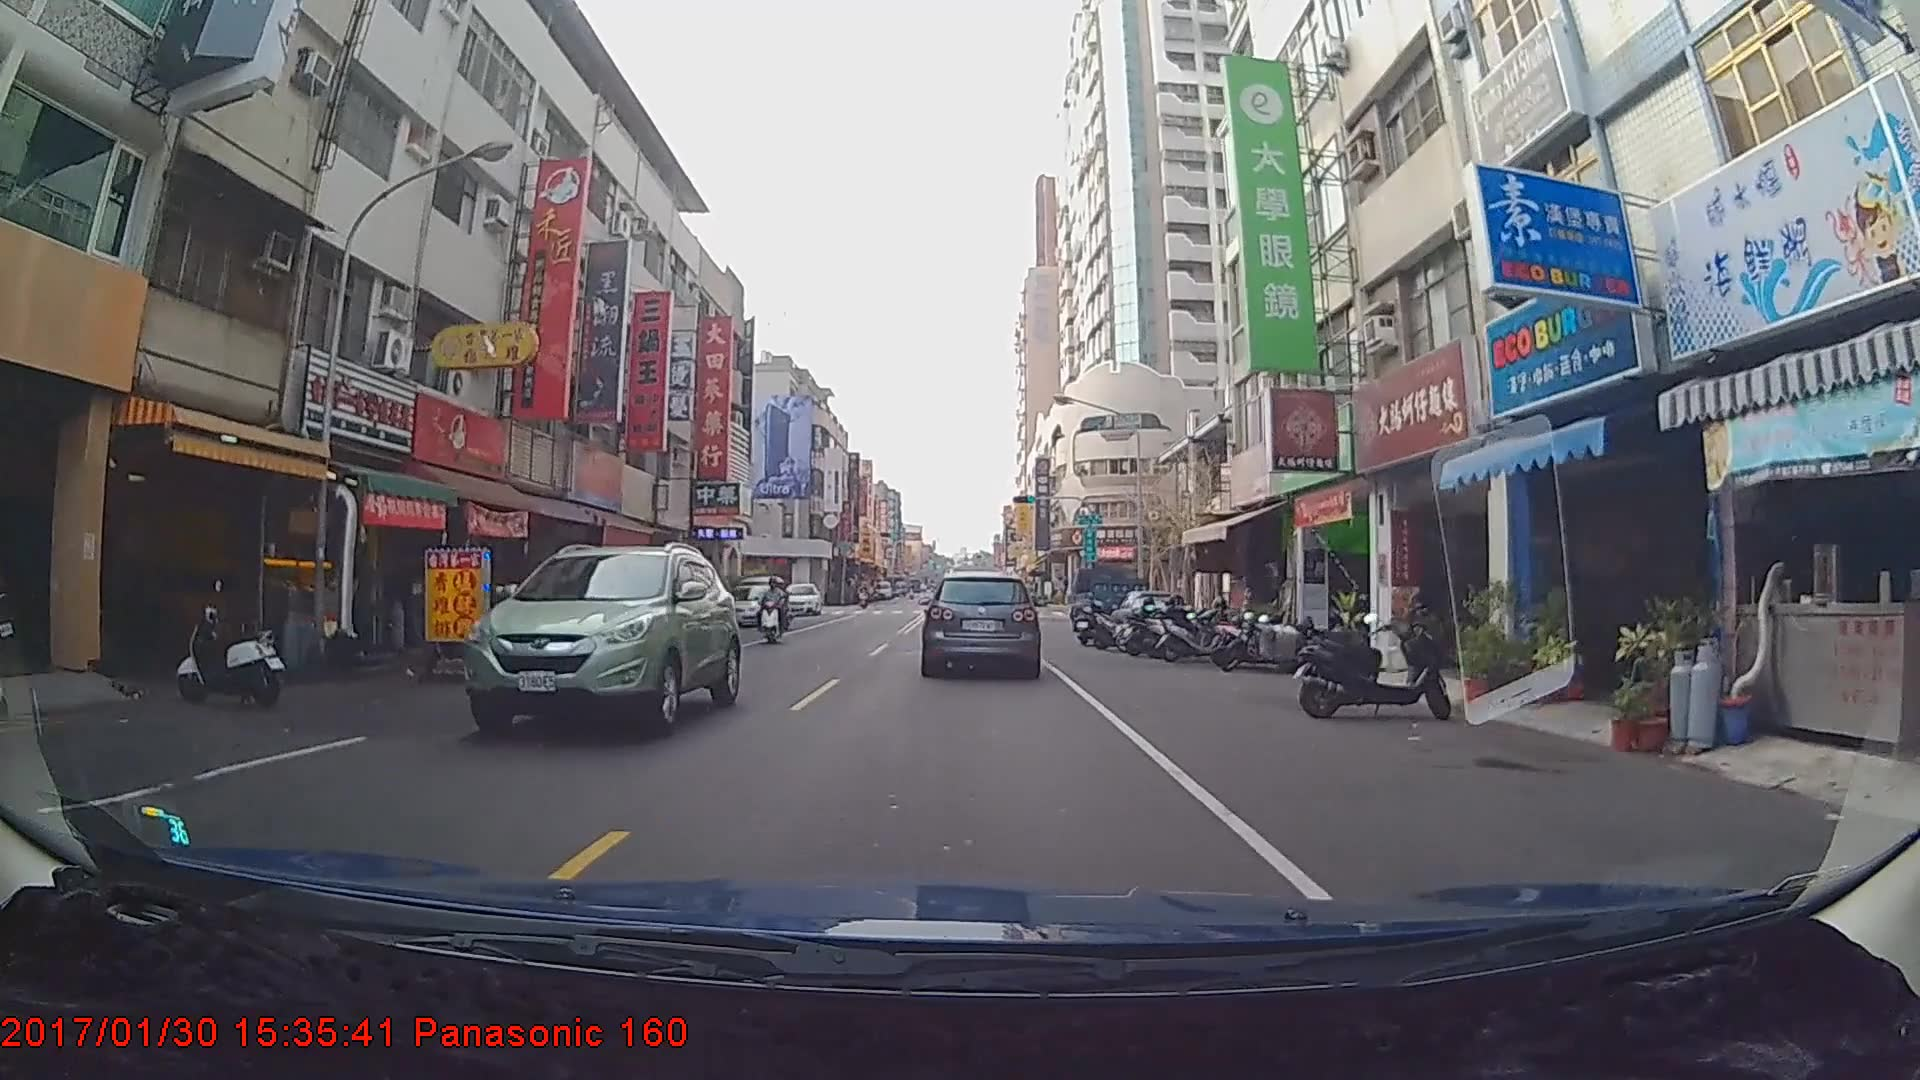rider: (761, 574, 792, 641)
vehicle: (458, 543, 741, 742), (922, 571, 1039, 676), (1068, 566, 1153, 634), (780, 583, 821, 617)
